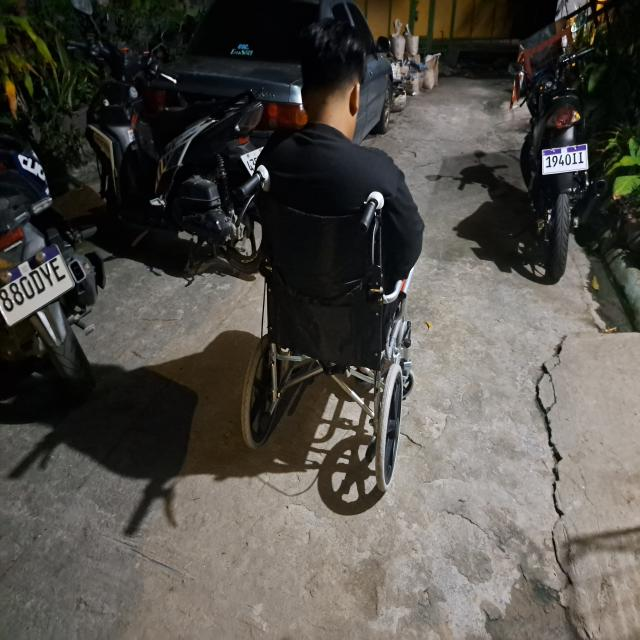wheelchairs: (223, 178, 420, 500)
